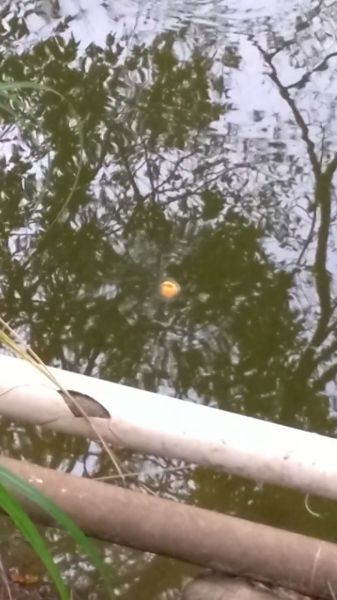eggs: (157, 275, 181, 301)
